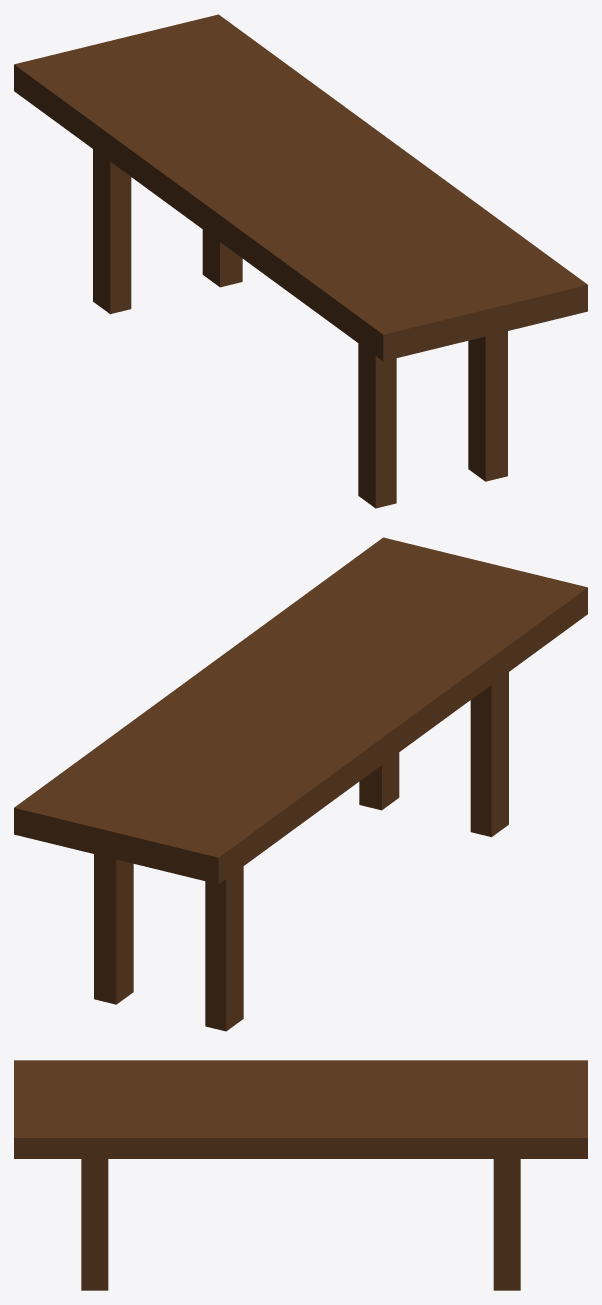
Rendered from LowPolyTable.glb.
3 renders of one model, top to bottom at view 1: azimuth 30°, elevation 25°; view 2: azimuth 150°, elevation 25°; view 3: azimuth 270°, elevation 25°, orthographic. The views are drawn at different scales.
Parts seen in each view (by area): view 1: Table; view 2: Table; view 3: Table.
Part boxes in pixels (x1,y1,x2,y2): Table: (14,14,587,508); Table: (14,537,587,1031); Table: (14,1060,587,1290).
Size of the model in its own units: 0.76 by 0.76 by 2.37.
